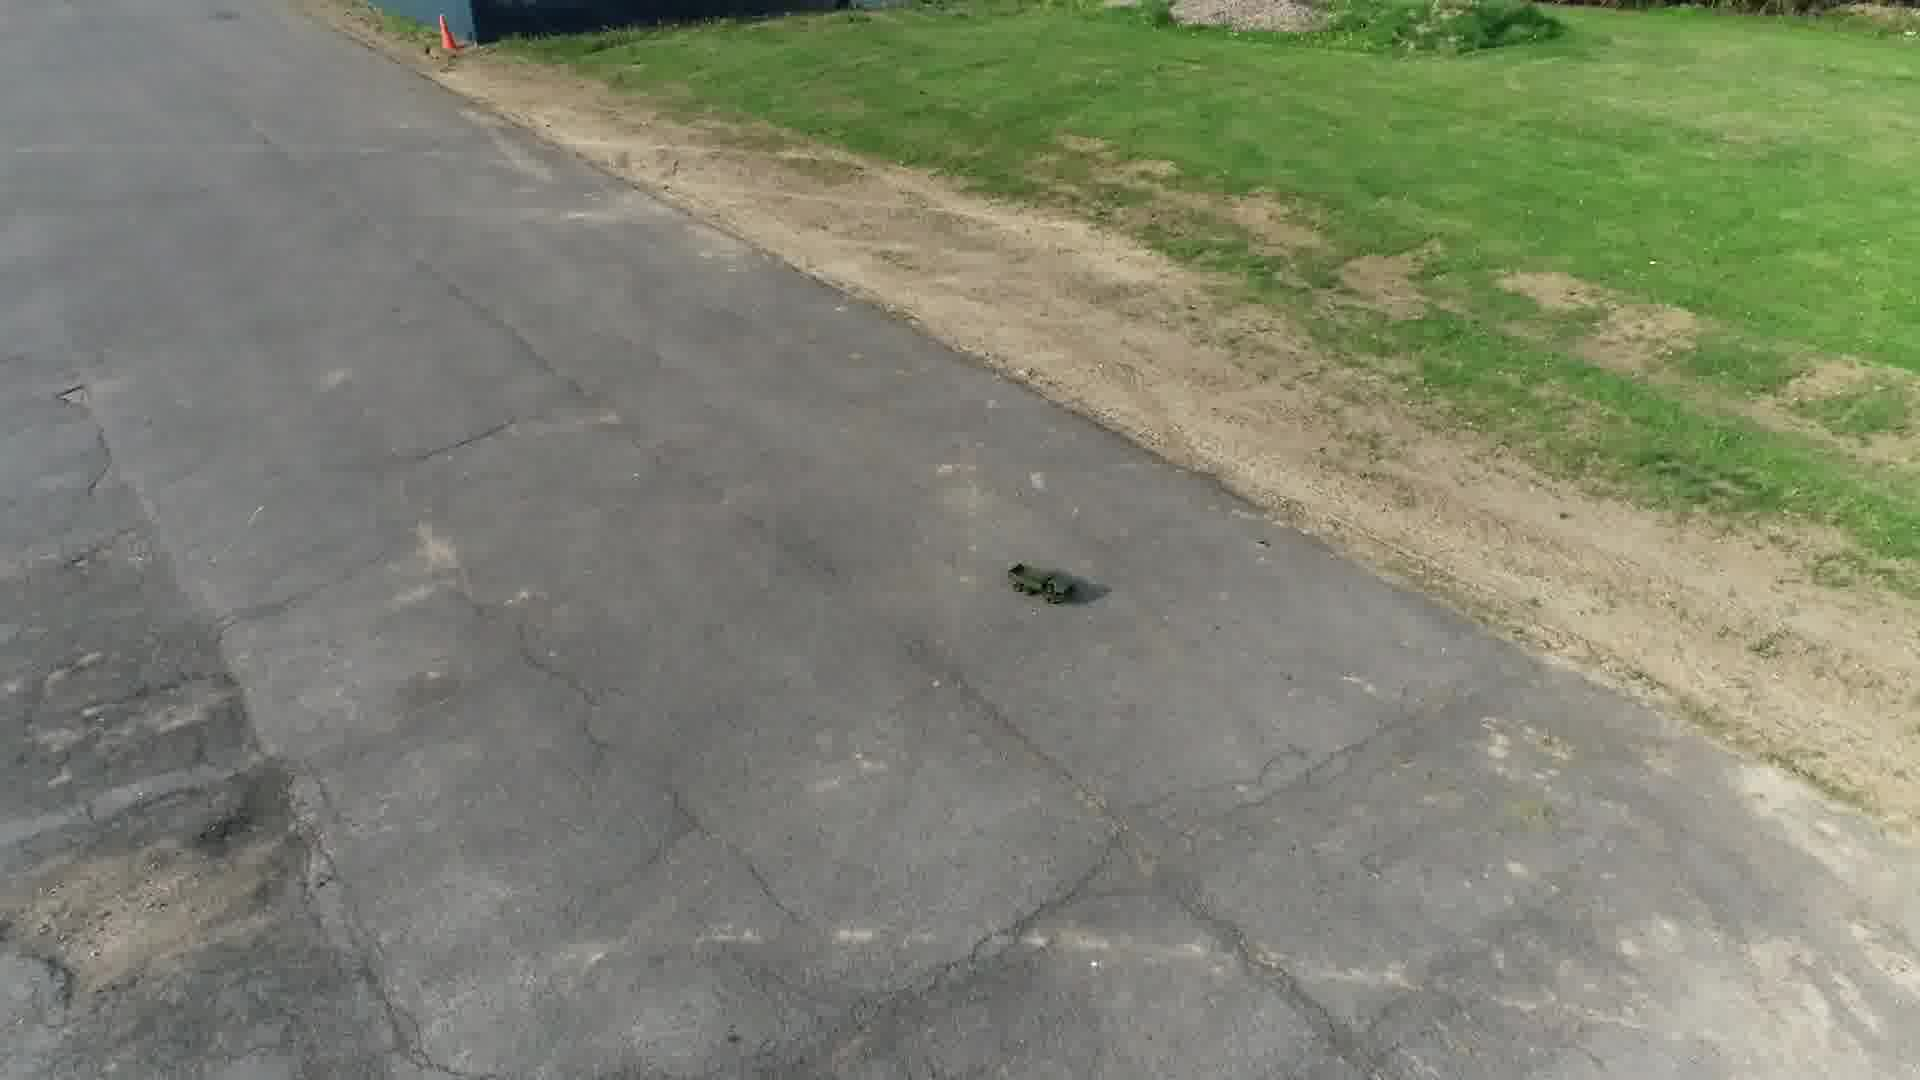transporter9: (1005, 560, 1076, 605)
